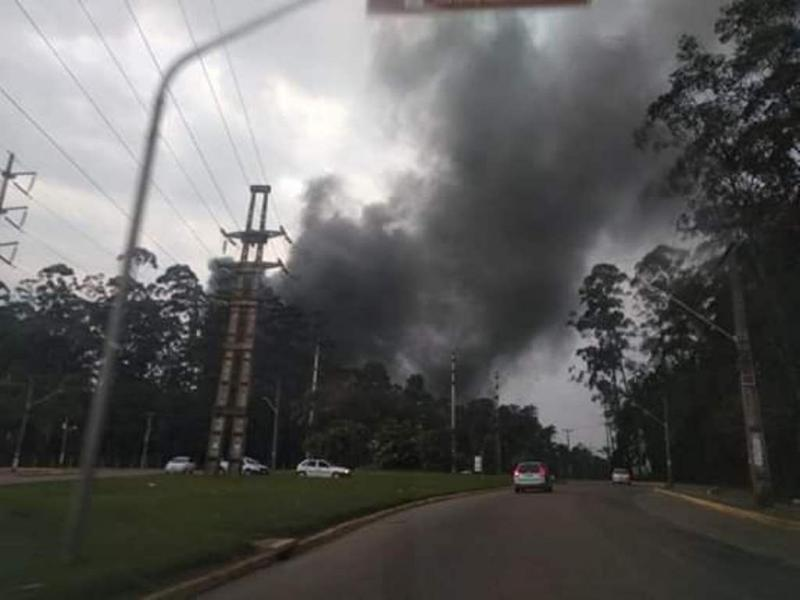smoke: (453, 89, 581, 293), (300, 243, 417, 334)
